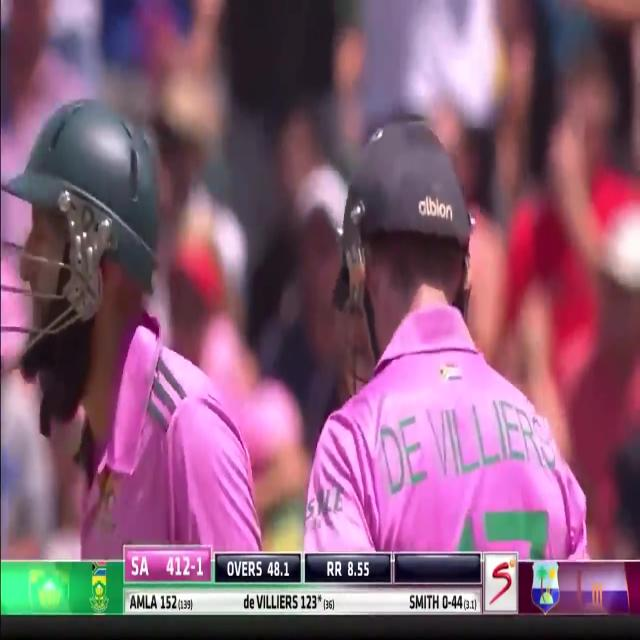Ball: (295, 110, 581, 555), (0, 102, 262, 556)
